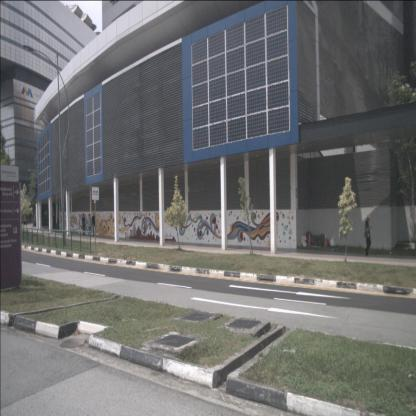human-pedestrian-adult: (364, 214, 372, 257), (87, 214, 92, 237), (92, 212, 96, 236), (82, 214, 86, 236), (52, 212, 56, 232)
movable_object-trafficcone: (307, 233, 312, 248), (324, 233, 328, 248)
vehicle-car: (33, 212, 48, 226)
